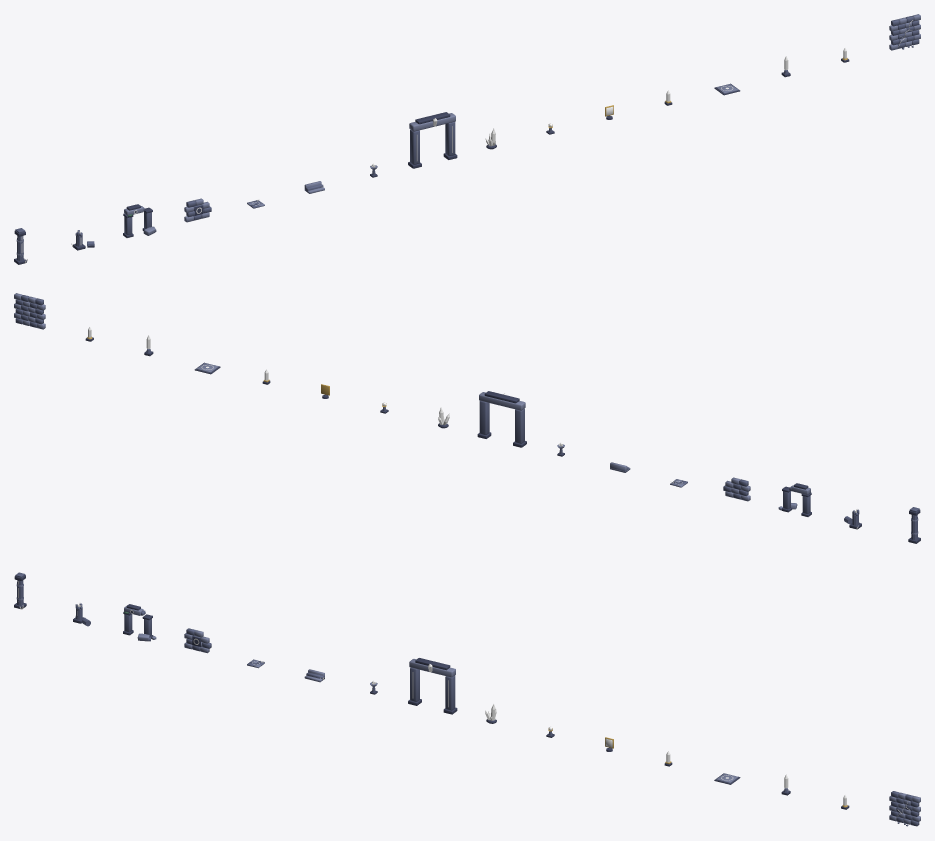
The model's file is DungeonProps.fbx.
3 renders of one model, top to bottom at view 1: azimuth 30°, elevation 25°; view 2: azimuth 150°, elevation 25°; view 3: azimuth 330°, elevation 25°, orthographic.
Parts seen in each view (by area): view 1: DungeonGate__Frame, CrackedWall__Frame, DungeonArch__Frame; view 2: DungeonGate__Frame, CrackedWall__Frame, DungeonArch__Frame; view 3: DungeonGate__Frame, CrackedWall__Frame, DungeonArch__Frame.
Part boxes in pixels (x1,y1,x2,y2): DungeonGate__Frame: [408, 112, 457, 168]; CrackedWall__Frame: [889, 14, 920, 50]; DungeonArch__Frame: [123, 204, 156, 237]; DungeonGate__Frame: [477, 391, 526, 447]; CrackedWall__Frame: [14, 293, 45, 329]; DungeonArch__Frame: [778, 483, 811, 516]; DungeonGate__Frame: [408, 658, 457, 714]; CrackedWall__Frame: [889, 791, 920, 826]; DungeonArch__Frame: [123, 604, 156, 641].
Size of the model in its own units: 460 by 22.92 by 9.01.
Materials: 16 (16 with a texture image).
